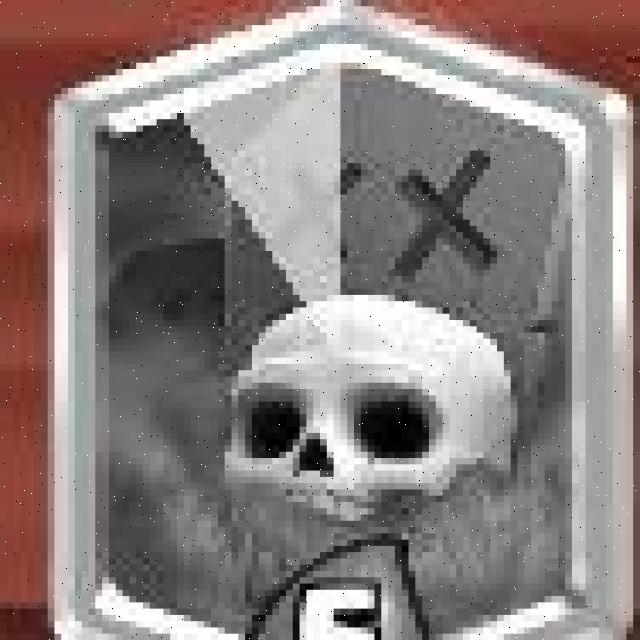Graveyard: (47, 4, 624, 640)
